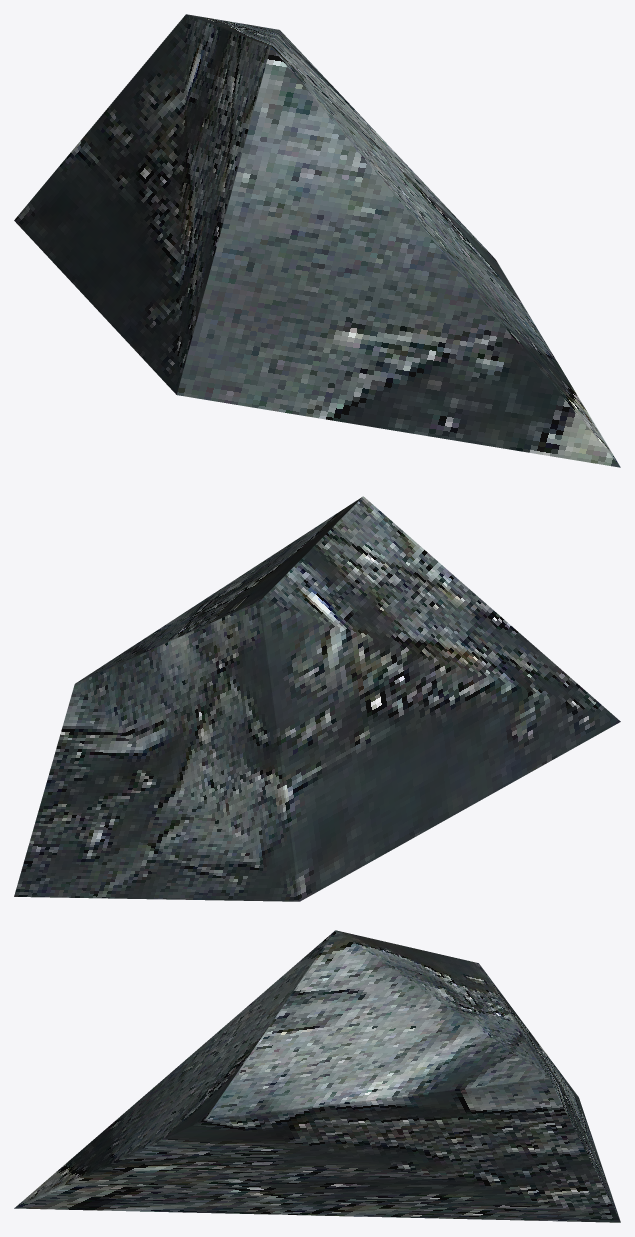
Rendered from flint.glb.
The picture shows the model from 3 angles, top to bottom: view 1: azimuth 30°, elevation 25°; view 2: azimuth 150°, elevation 25°; view 3: azimuth 270°, elevation 25°; orthographic projection. The views are drawn at different scales.
Parts seen in each view (by area): view 1: flint; view 2: flint; view 3: flint.
Part boxes in pixels (box(x1,y1,x2,y2)): flint: box(14, 14, 620, 467); flint: box(14, 496, 620, 901); flint: box(14, 930, 620, 1222).
Size of the model in its own units: 0.0679 by 0.0583 by 0.1382.
1 material, 1 textured.
